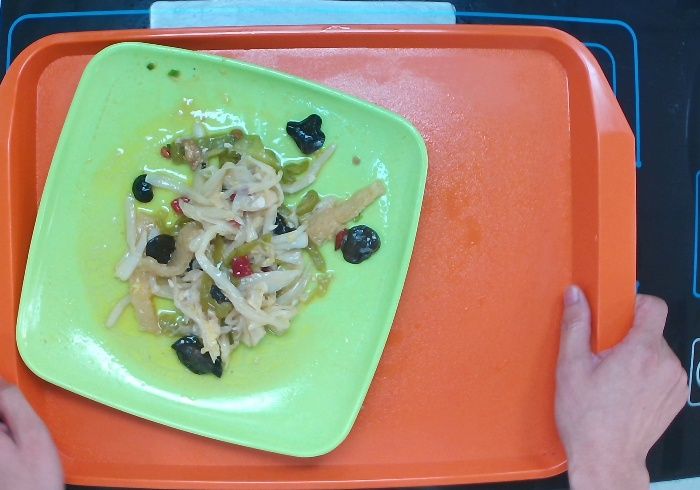ZNLD-Lv_Fang_Pan: (12, 42, 428, 461)
